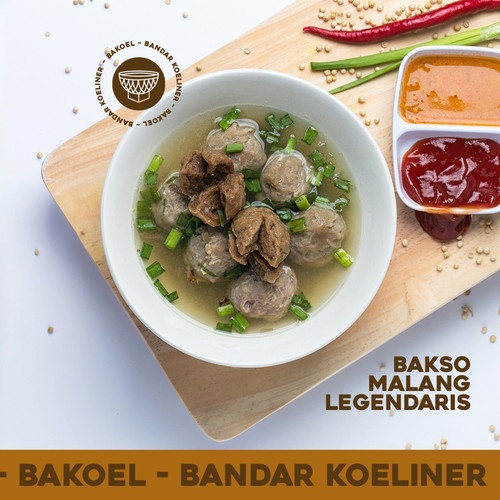bakso_malang: (136, 106, 363, 333)
